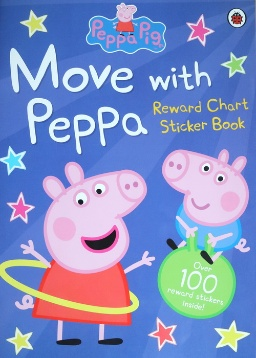Peppa: (15, 161, 158, 348)
